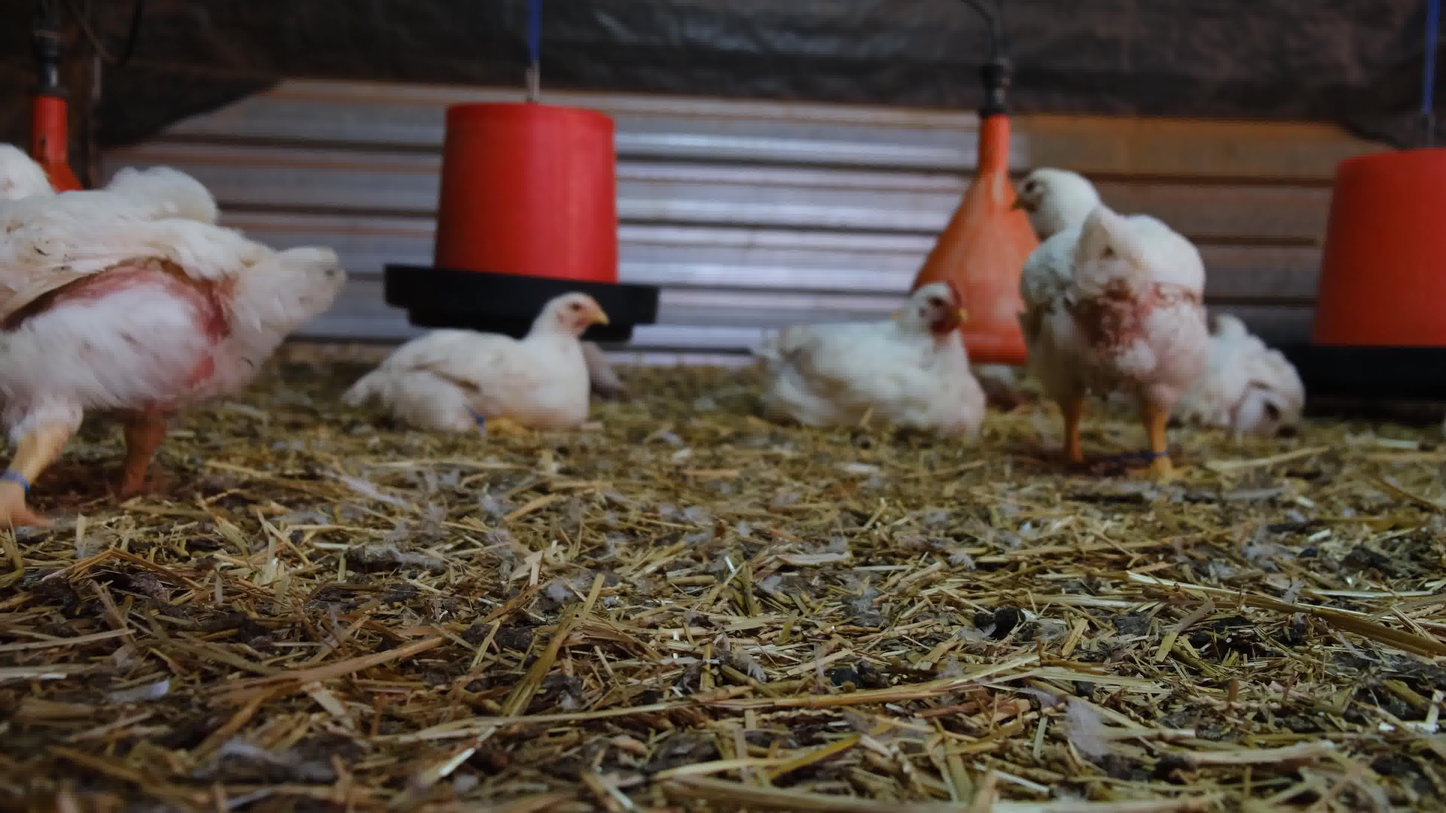AbNormal: (337, 267, 648, 455), (768, 288, 998, 442), (1188, 297, 1327, 448)
Normal: (0, 98, 358, 555), (981, 154, 1245, 484)
